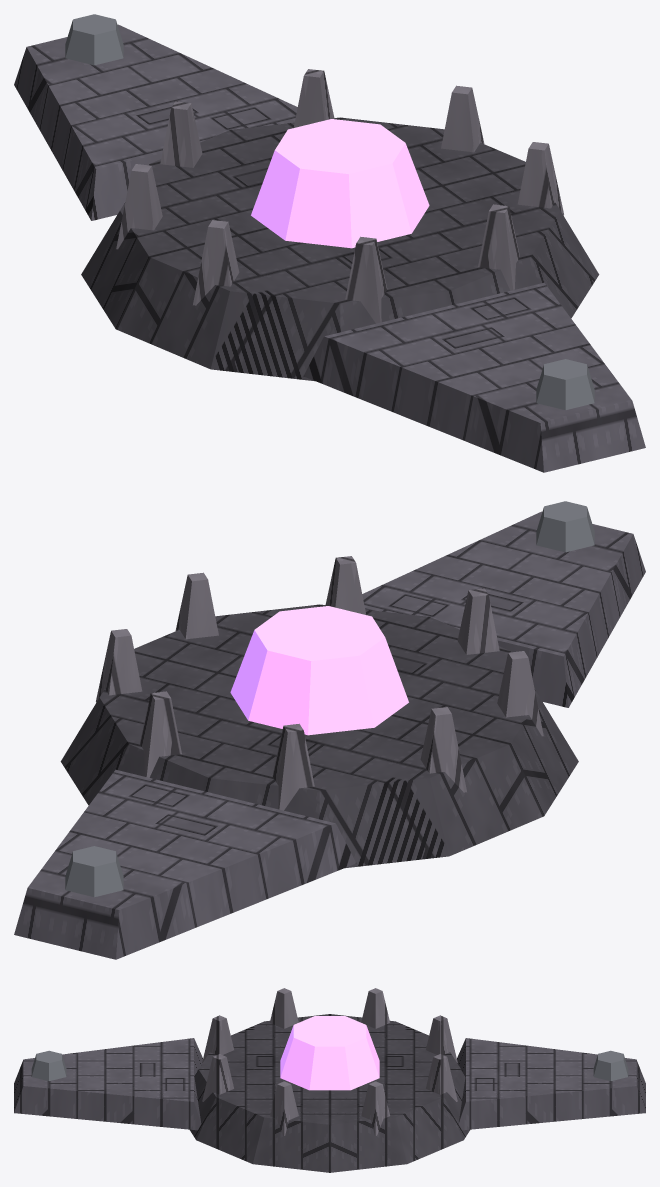
Rendered from crown_iris.glb.
3 renders of one model, top to bottom at view 1: azimuth 30°, elevation 25°; view 2: azimuth 150°, elevation 25°; view 3: azimuth 270°, elevation 25°, orthographic. The views are drawn at different scales.
Bounding box in the file's own units: 44 × 12 × 90.
Materials: 7 (4 with a texture image).
